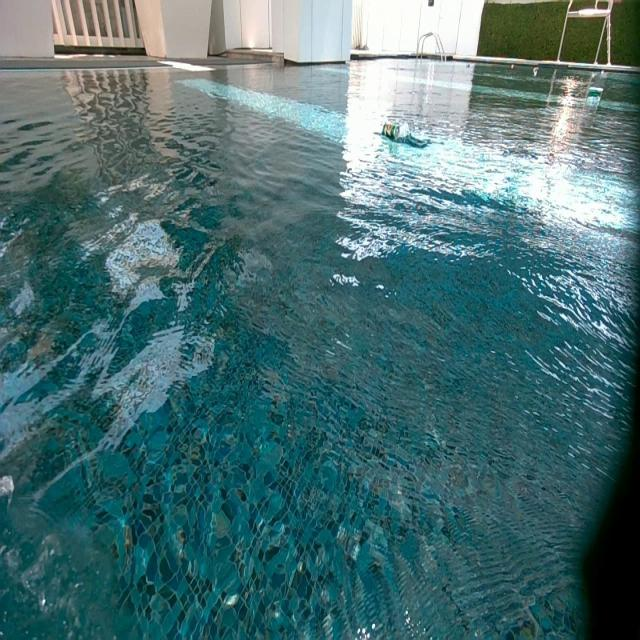Cans: (381, 122, 409, 144), (532, 68, 538, 78), (465, 63, 471, 69), (511, 64, 516, 71)
